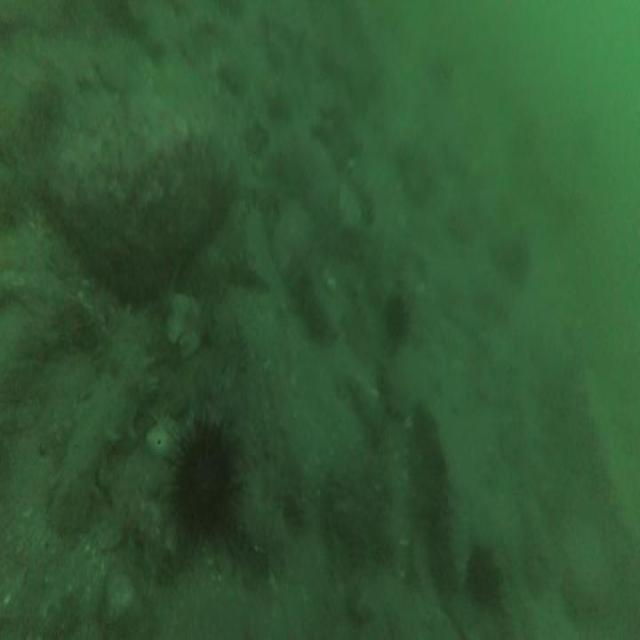echinus: (159, 406, 253, 555)
